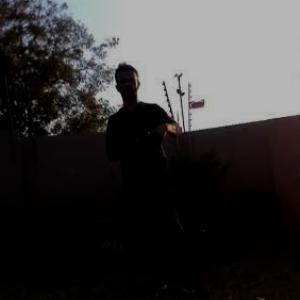follow: (99, 57, 216, 299)
